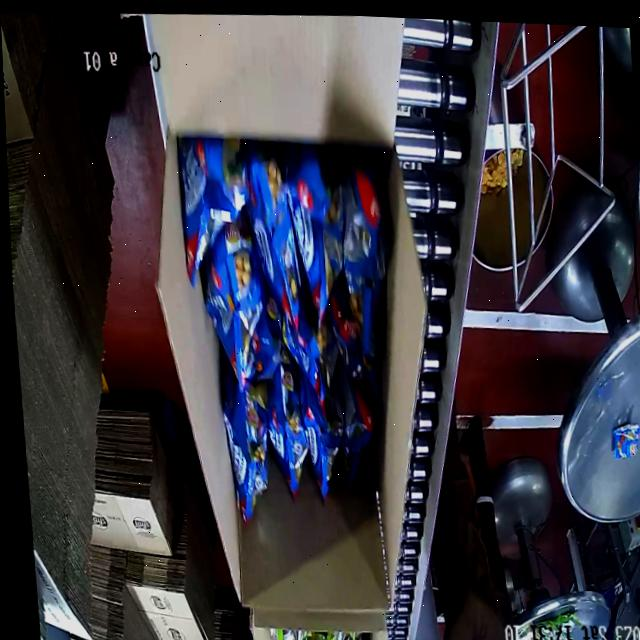PAPRIKA: (175, 142, 403, 495)
